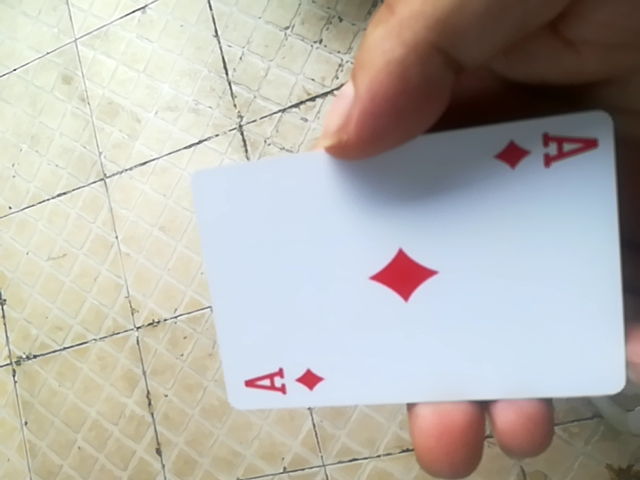fk a: (194, 114, 624, 413)
